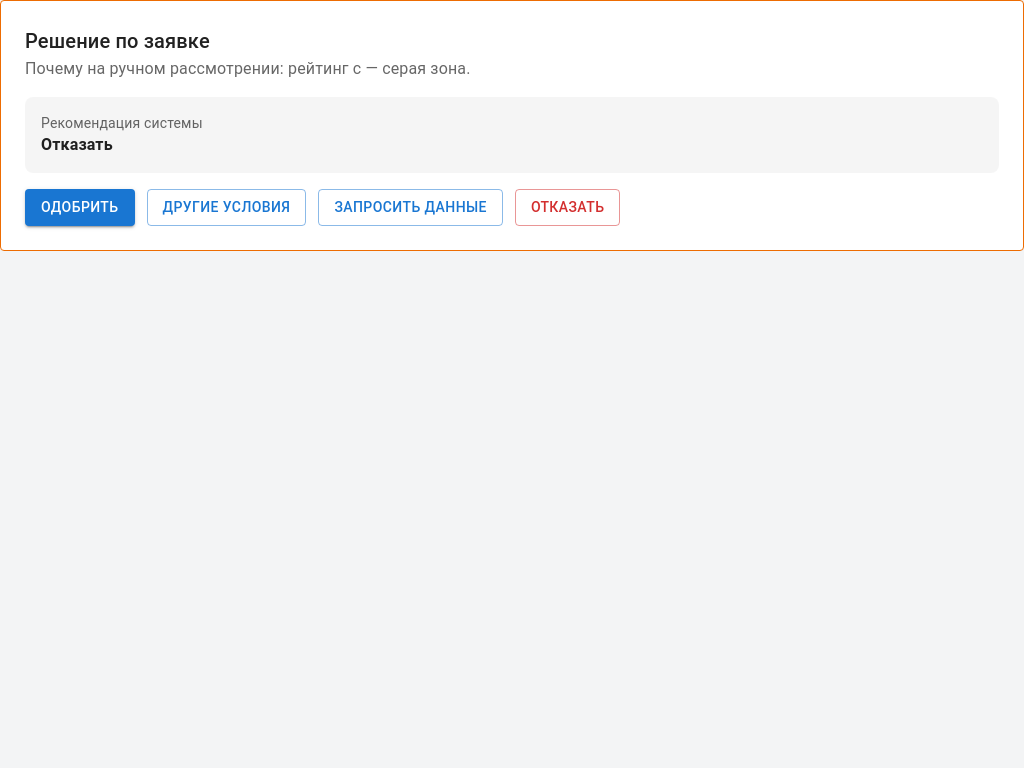
DecisionPanel › asks for a reason before approving against the recommendation
This screenshot has width=1024, height=768.
Click the button "Одобрить" at {"x": 80, "y": 207}, box [25,189,135,226]
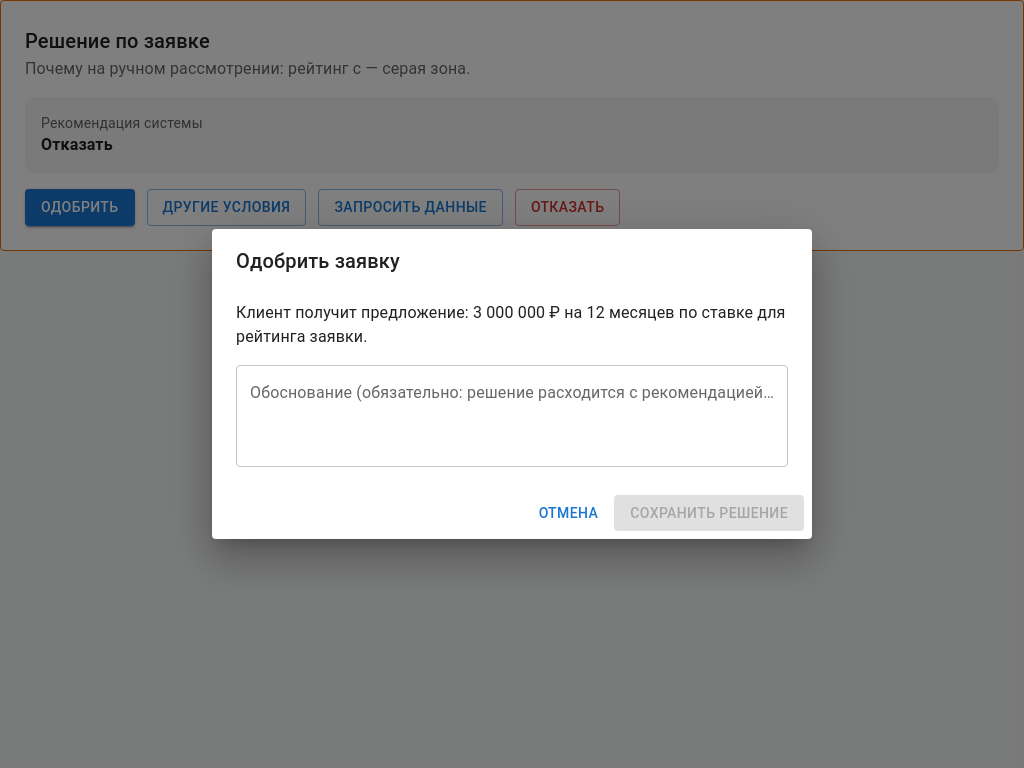
Result: the button "Сохранить решение" is disabled at [614,495,804,531]
Type "Залог покрывает риск" into the text box labelled "Обоснование" at {"x": 512, "y": 416}, box [250,381,774,450]
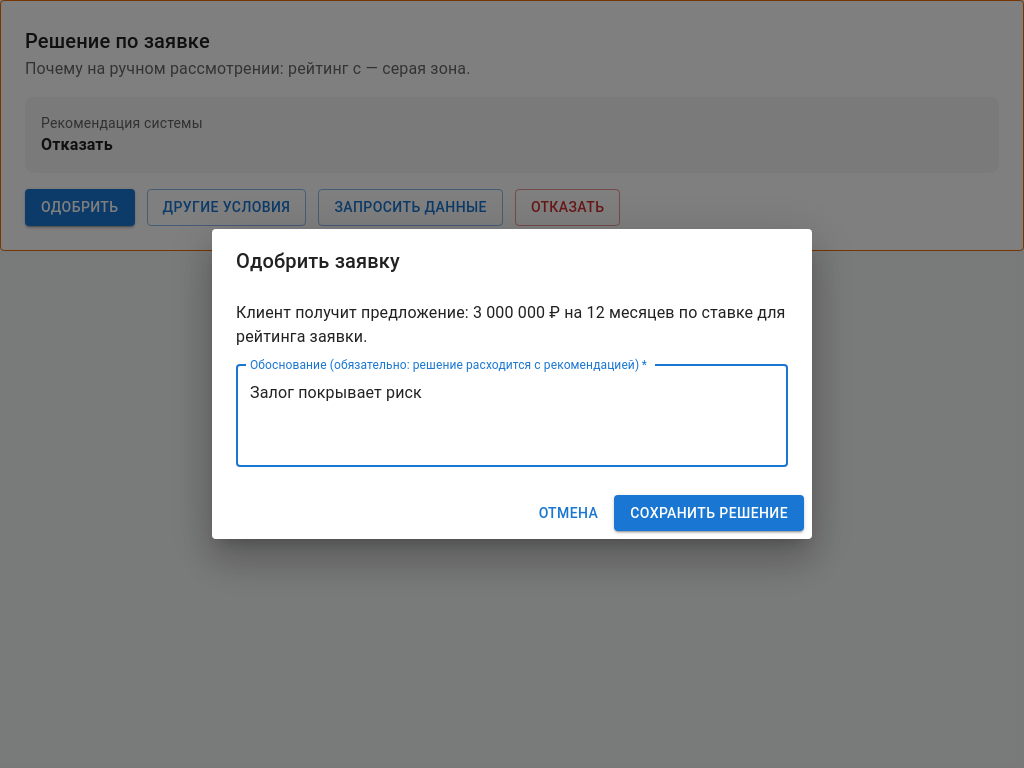
Result: the button "Сохранить решение" is enabled at [614,495,804,531]
